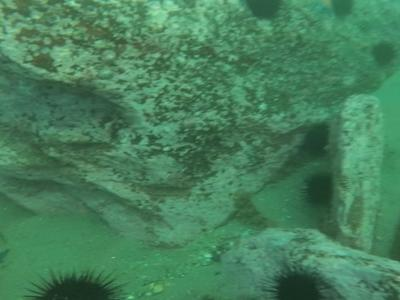holothurian: (227, 188, 279, 232), (333, 45, 382, 88)
urchin: (23, 266, 121, 298), (266, 266, 336, 297), (303, 167, 339, 212), (303, 119, 335, 160), (246, 3, 284, 21), (372, 41, 395, 63)
